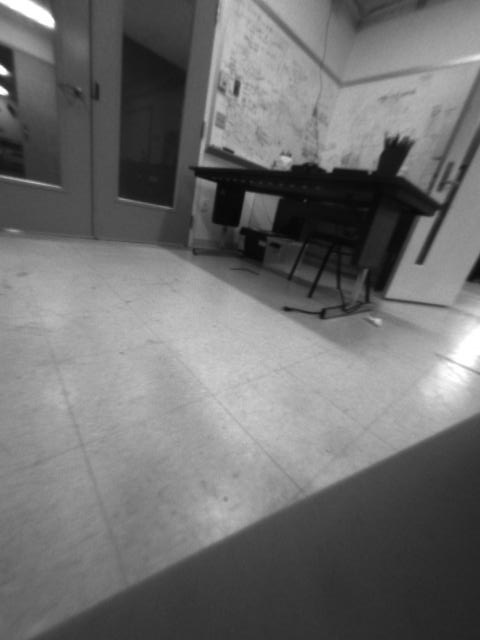door_handle: (52, 76, 89, 106)
